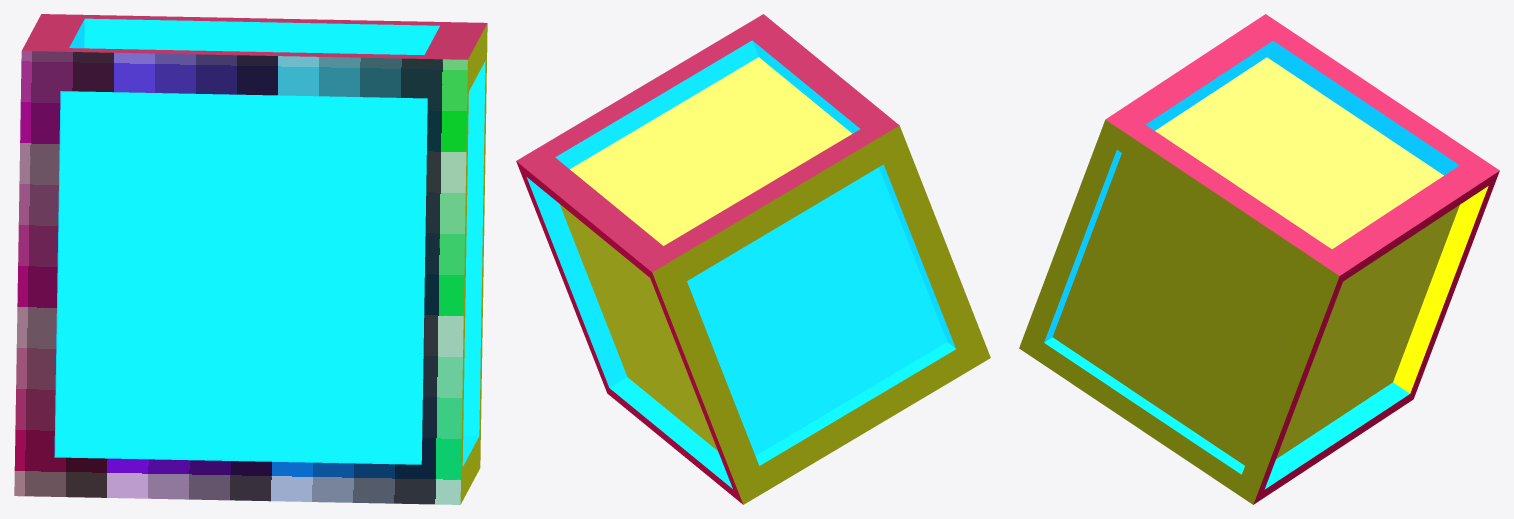
The model's file is cube_imphenzia.glb.
3 views of the same model, side by side, from view 1: azimuth 30°, elevation 25°; view 2: azimuth 150°, elevation 25°; view 3: azimuth 270°, elevation 25° (orthographic). The views are drawn at different scales.
Parts seen in each view (by area): view 1: Cube; view 2: Cube; view 3: Cube.
Part boxes in pixels (<box>): Cube: <box>14,14,487,504</box>; Cube: <box>516,14,990,504</box>; Cube: <box>1019,14,1499,504</box>.
Size of the model in its own units: 3.07 by 2.57 by 3.24.
1 material, 1 textured.
